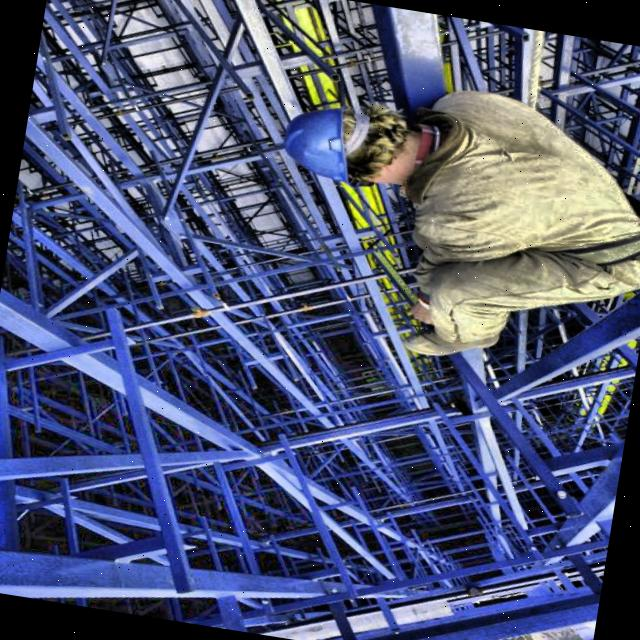helmet: (267, 96, 431, 198)
